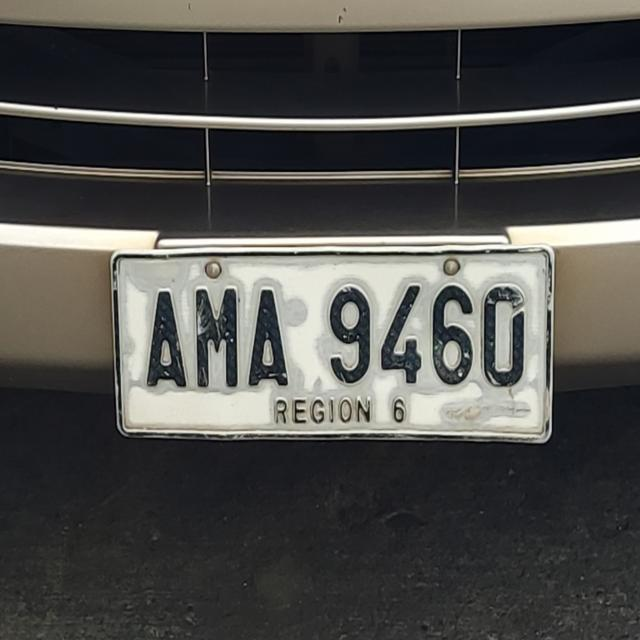LicensePlate: (105, 242, 557, 454)
